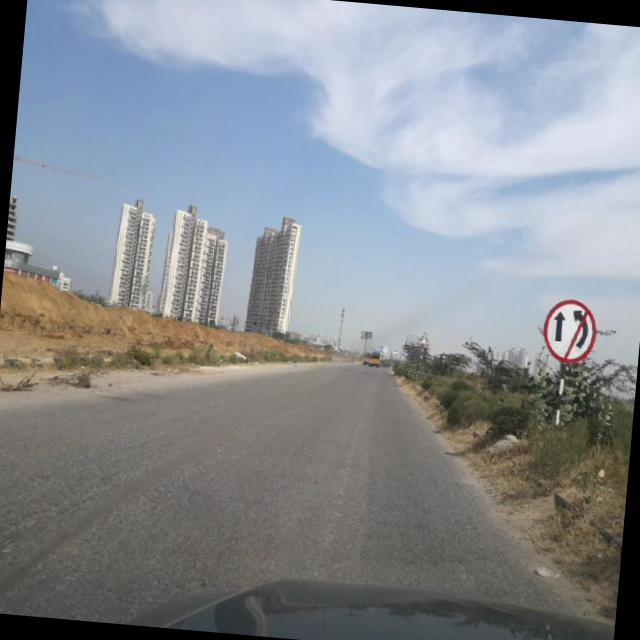crack: (154, 409, 290, 529)
pothole: (0, 492, 77, 558)
